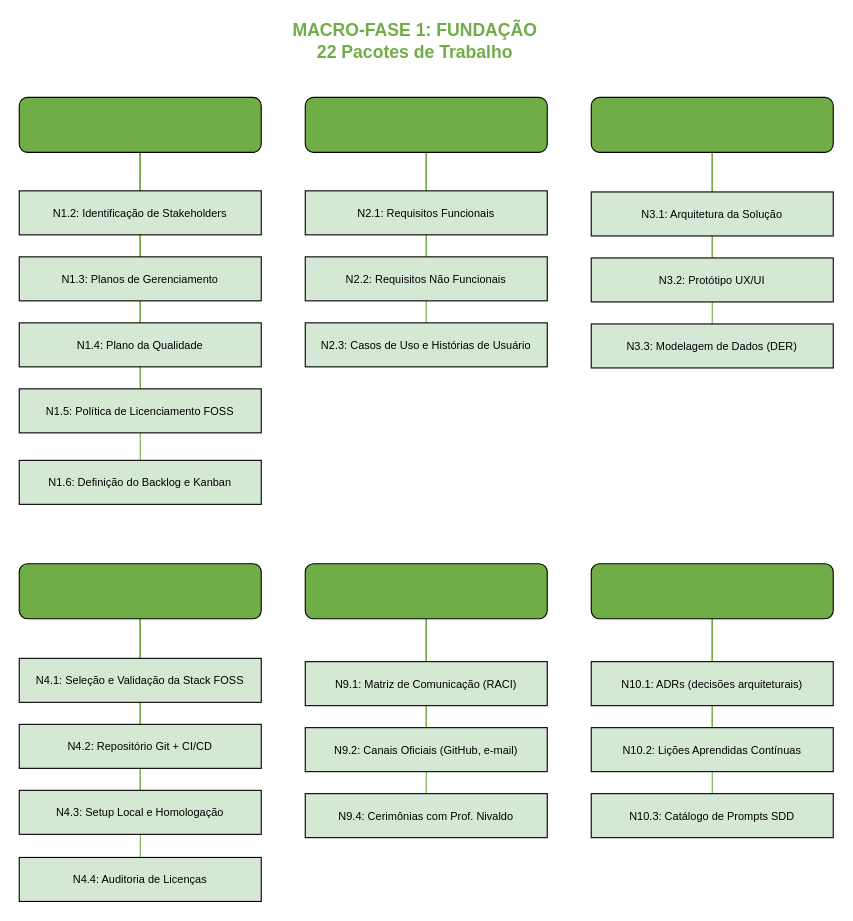
The diagram is 853 pixels wide and 921 high, and some of its shapes have lost their labels. Each missing label, with the box of its shape:
N10: Base de Conhecimento: (590, 563, 833, 619)
N1: Iniciação e Planejamento: (18, 96, 261, 152)
N2: Levantamento de Requisitos: (304, 96, 547, 152)
N3: Modelagem e Prototipação: (590, 96, 833, 152)
N4: Configuração de Ambiente: (18, 563, 261, 619)
N9: Comunicação: (304, 563, 547, 619)
